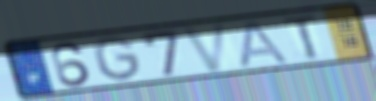6: (49, 39, 92, 89)
7: (138, 29, 182, 78)
A: (238, 18, 293, 69)
G: (91, 34, 145, 83)
T: (280, 12, 324, 62)
V: (179, 20, 230, 75)
